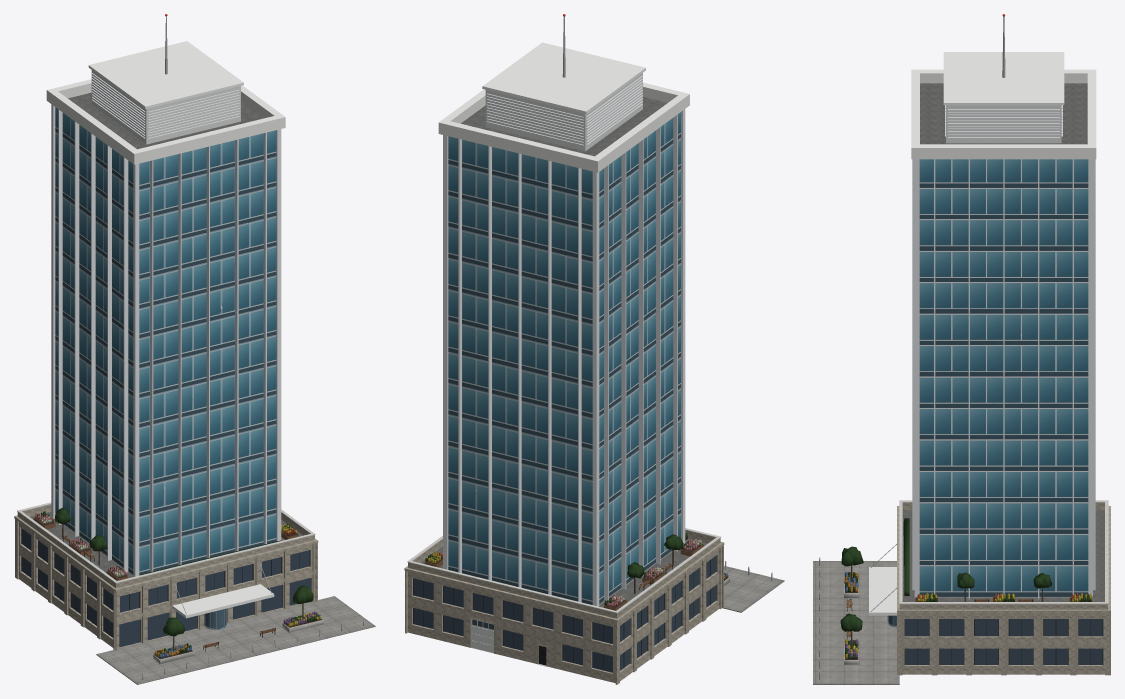
File: office-tower.glb
3 renders of one model, left to right at view 1: azimuth 30°, elevation 25°; view 2: azimuth 150°, elevation 25°; view 3: azimuth 270°, elevation 25°, orthographic. The views are drawn at different scales.
Visible parts, largest first — view 1: Office_Tower; view 2: Office_Tower; view 3: Office_Tower.
Part boxes in pixels (x1,y1,x2,y2): Office_Tower: (14, 14, 375, 684); Office_Tower: (404, 14, 784, 684); Office_Tower: (813, 14, 1110, 684).
Bounding box in the file's own units: 30.2 × 69.74 × 30.9.
28 materials, 17 textured.
